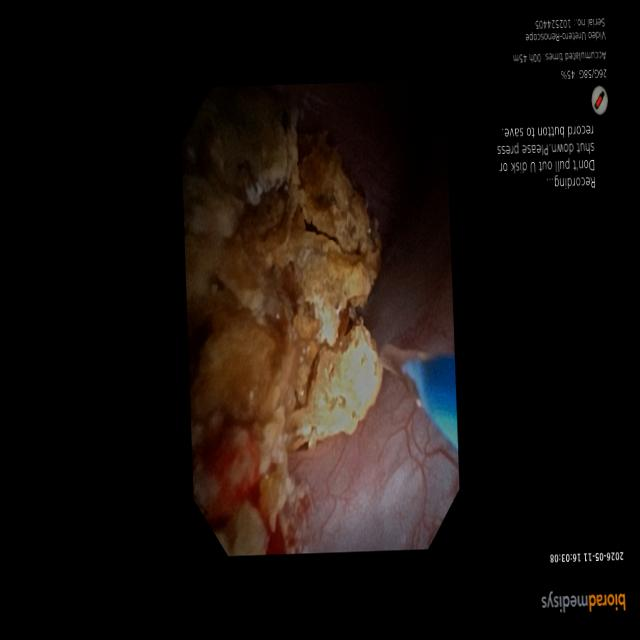laser_dot: (350, 357, 381, 408)
stone-new: (182, 88, 382, 554)
